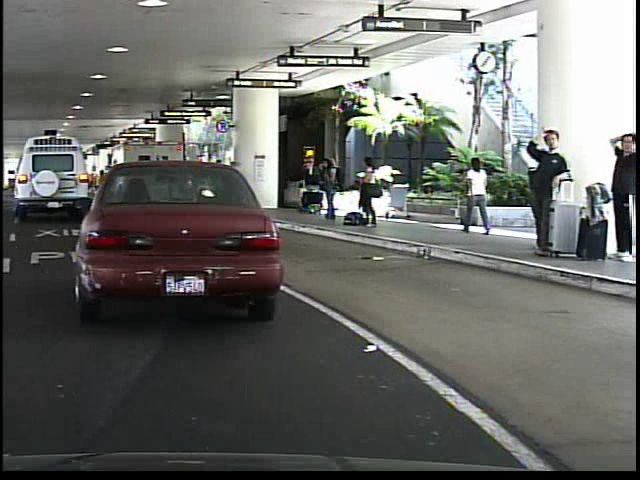person: (521, 122, 570, 259), (602, 125, 637, 267), (455, 154, 494, 235), (352, 155, 379, 229)
